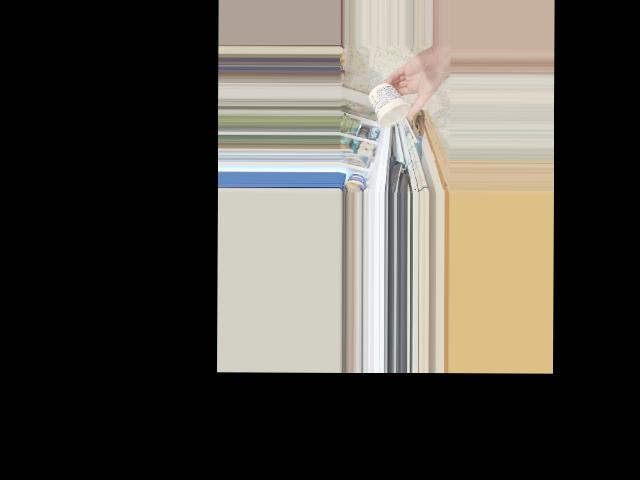cotage: (370, 87, 408, 128)
